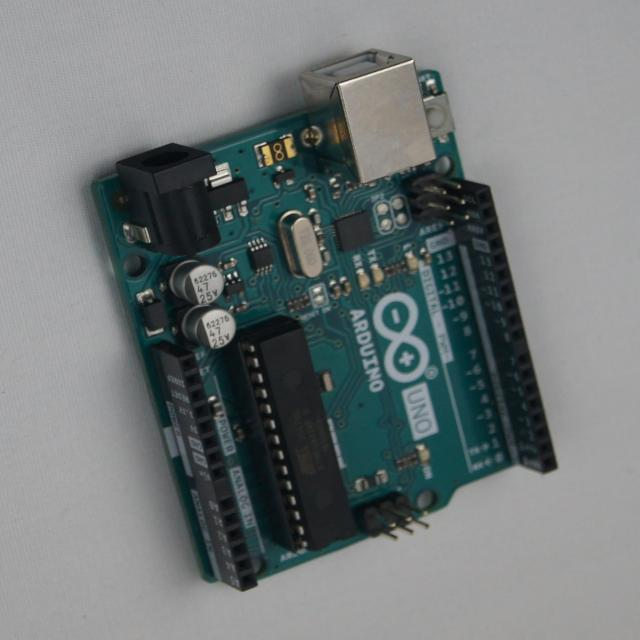Arduino Uno -Green-: (94, 51, 558, 591)
